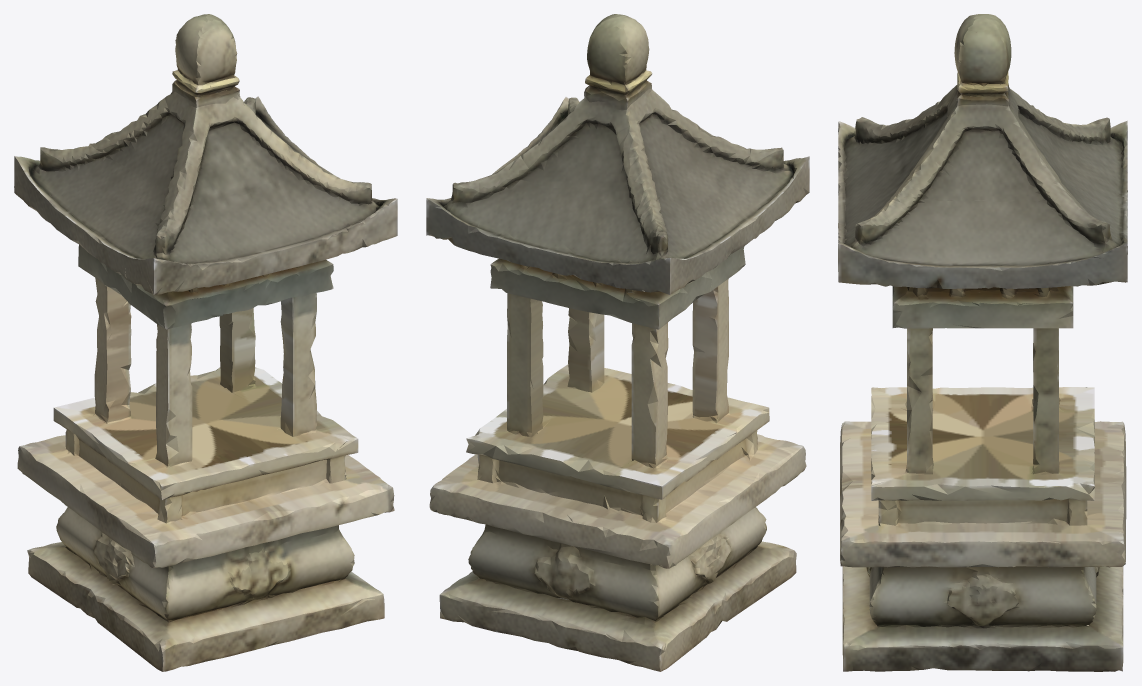
File: edo_lantern.glb
3 views of the same model, side by side, from view 1: azimuth 30°, elevation 25°; view 2: azimuth 150°, elevation 25°; view 3: azimuth 270°, elevation 25° (orthographic). The views are drawn at different scales.
Parts seen in each view (by area): view 1: edo_lantern; view 2: edo_lantern; view 3: edo_lantern.
Part boxes in pixels (x1=…): edo_lantern: x1=14, y1=14, x2=397, y2=671; edo_lantern: x1=426, y1=14, x2=809, y2=671; edo_lantern: x1=838, y1=14, x2=1127, y2=671.
Size of the model in its own units: 0.7946 by 1.9 by 0.7891.
1 material, 1 textured.
